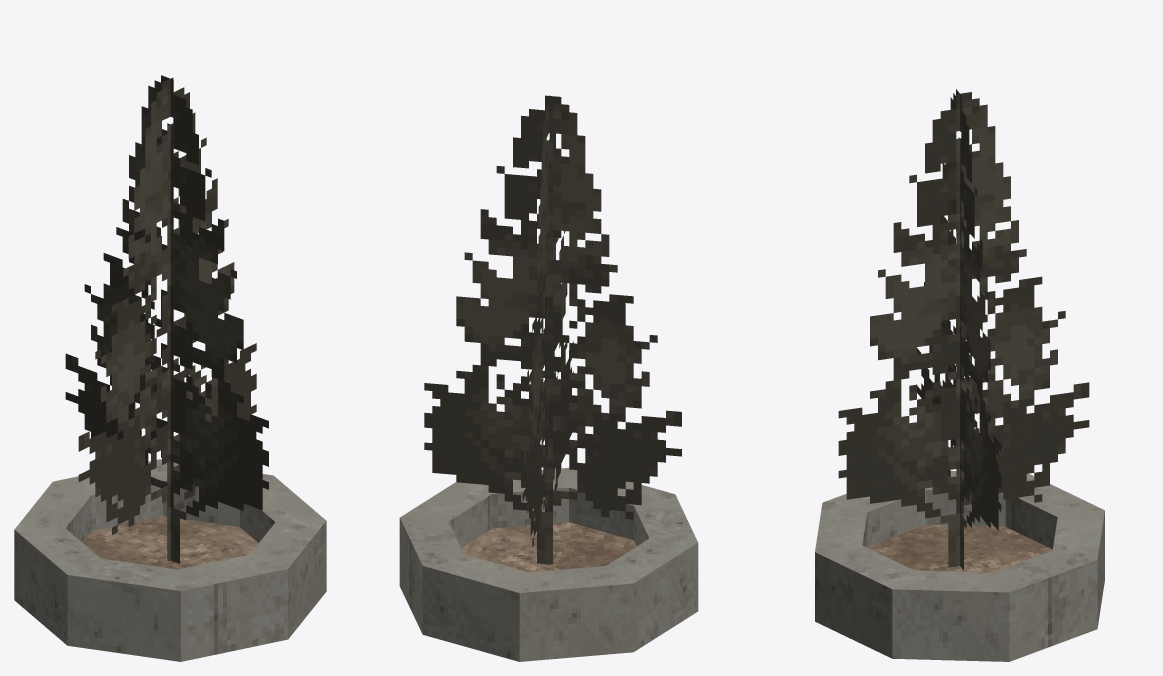
Rendered from procgen-procpain-tree-park-pine-large-x0z2.obj.
3 renders of one model, left to right at view 1: azimuth 30°, elevation 25°; view 2: azimuth 150°, elevation 25°; view 3: azimuth 270°, elevation 25°, orthographic. The views are drawn at different scales.
Size of the model in its own units: 6.48 by 9.62 by 6.48.
